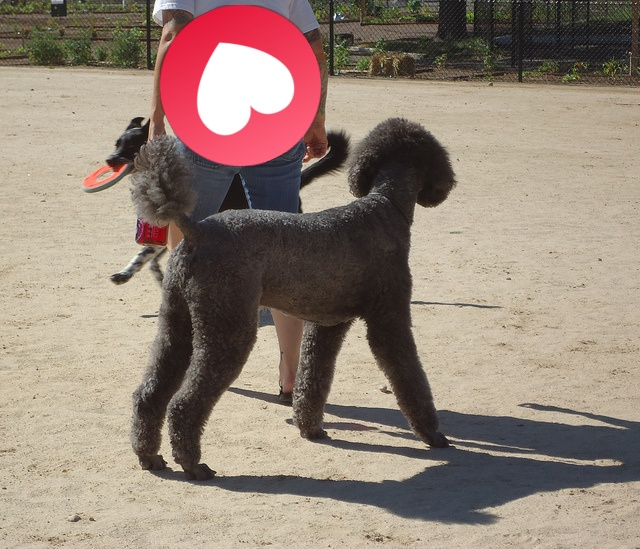love: (160, 5, 321, 166)
